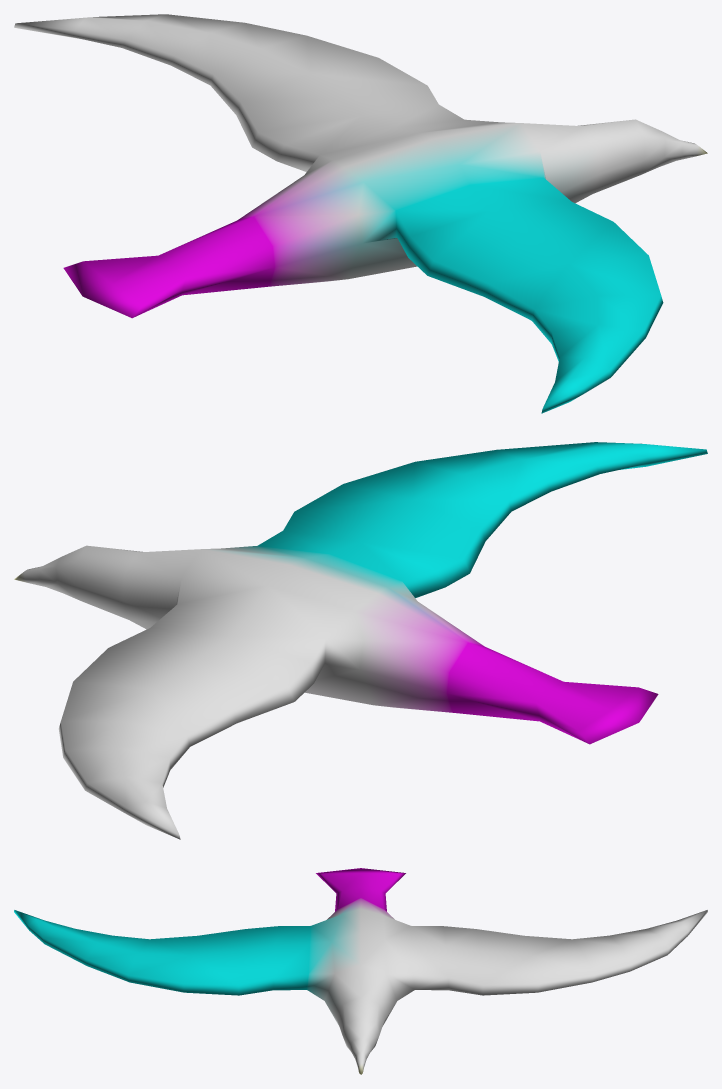
File: SM_Bird.FBX
3 views of the same model, one above another, from view 1: azimuth 30°, elevation 25°; view 2: azimuth 150°, elevation 25°; view 3: azimuth 270°, elevation 25° (orthographic). The views are drawn at different scales.
Visible parts, largest first — view 1: SM_Bird; view 2: SM_Bird; view 3: SM_Bird.
Part boxes in pixels (<box>): SM_Bird: <box>14,14,707,413</box>; SM_Bird: <box>14,442,707,839</box>; SM_Bird: <box>14,868,707,1074</box>.
Size of the model in its own units: 43.34 by 63.3 by 8.1.
